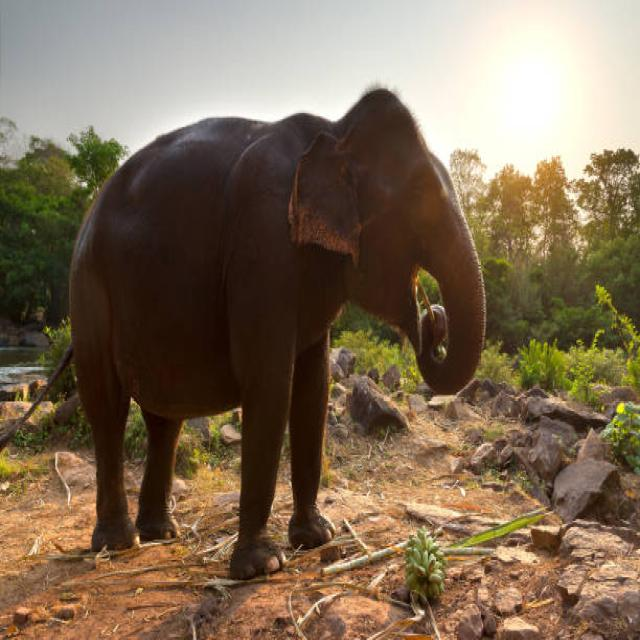Elephant: (55, 79, 498, 582)
